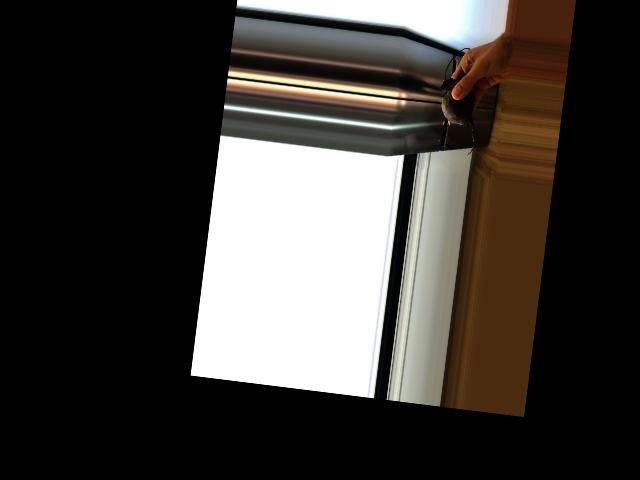beet: (433, 45, 486, 157)
